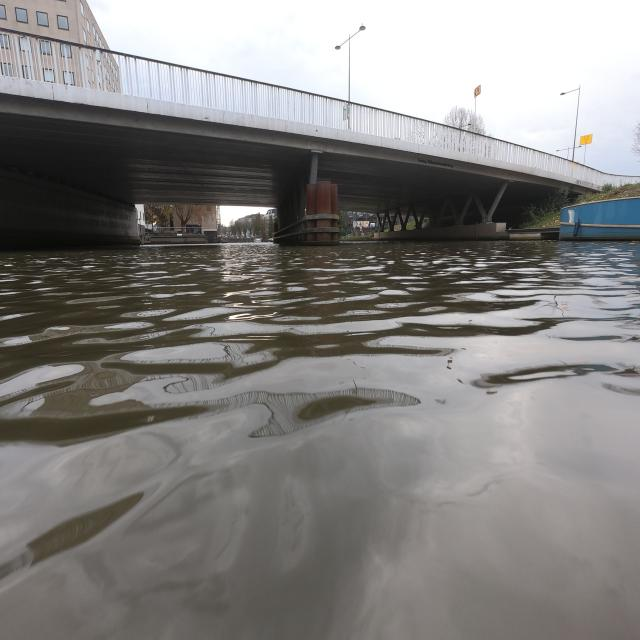boat: (566, 200, 638, 240)
sky: (90, 4, 638, 176)
wall: (0, 168, 139, 249), (373, 222, 509, 241)
water: (7, 244, 635, 640)
